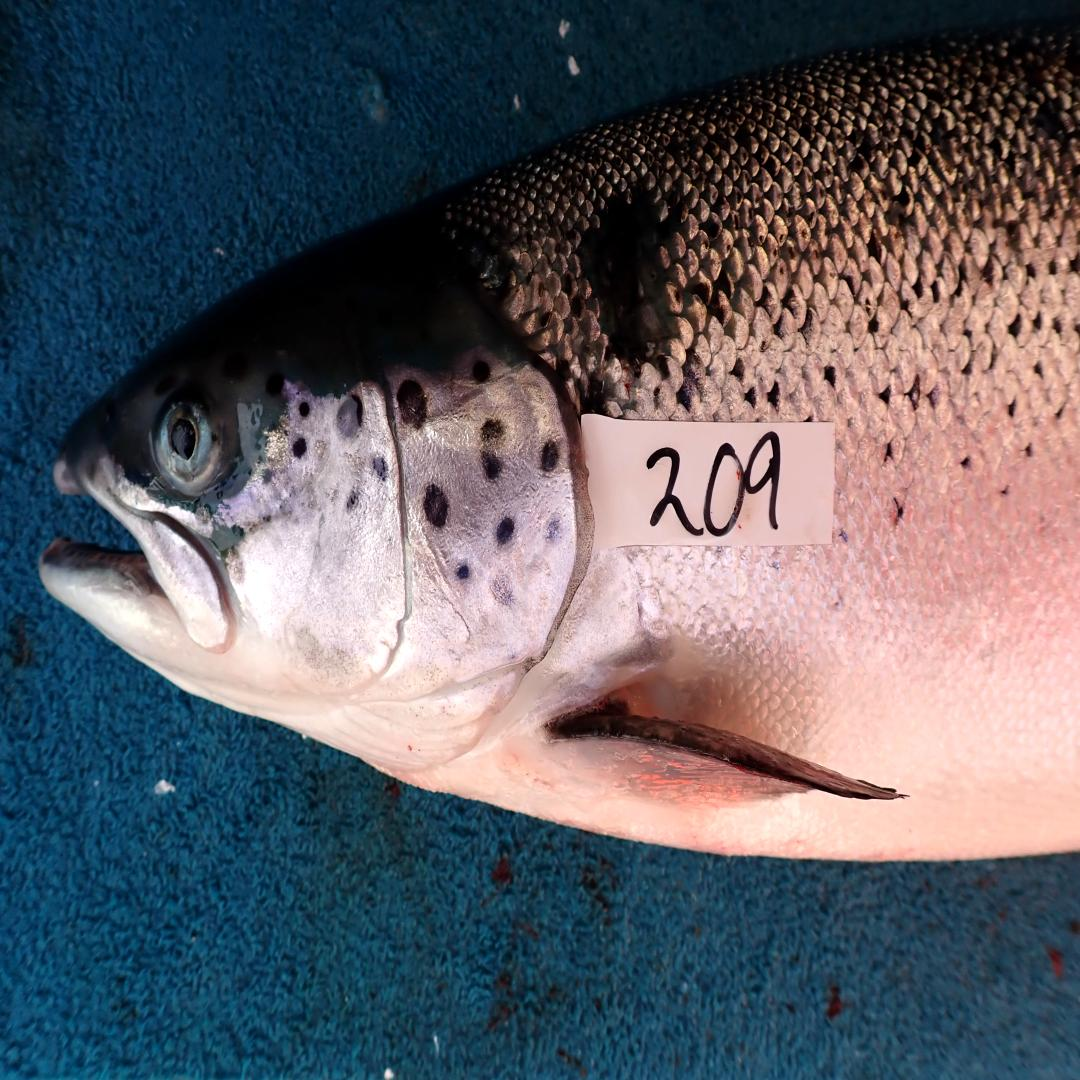roi: (232, 357, 589, 780)
